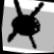not correct: (0, 0, 47, 51)
